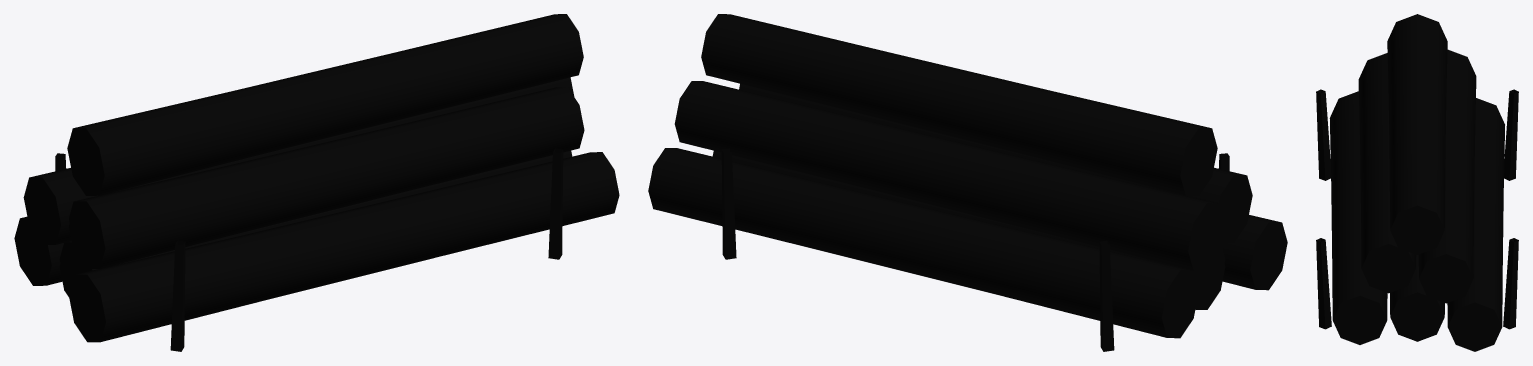
File: SM_log_pile.fbx
3 renders of one model, left to right at view 1: azimuth 30°, elevation 25°; view 2: azimuth 150°, elevation 25°; view 3: azimuth 270°, elevation 25°, orthographic. The views are drawn at different scales.
Visible parts, largest first — view 1: log_pile; view 2: log_pile; view 3: log_pile.
Boxes of the visible parts, x1,y1,x2,y2 form: log_pile: [14, 14, 619, 351]; log_pile: [648, 14, 1287, 351]; log_pile: [1316, 14, 1518, 351].
Bounding box in the file's own units: 3.1 × 1.04 × 1.27.
